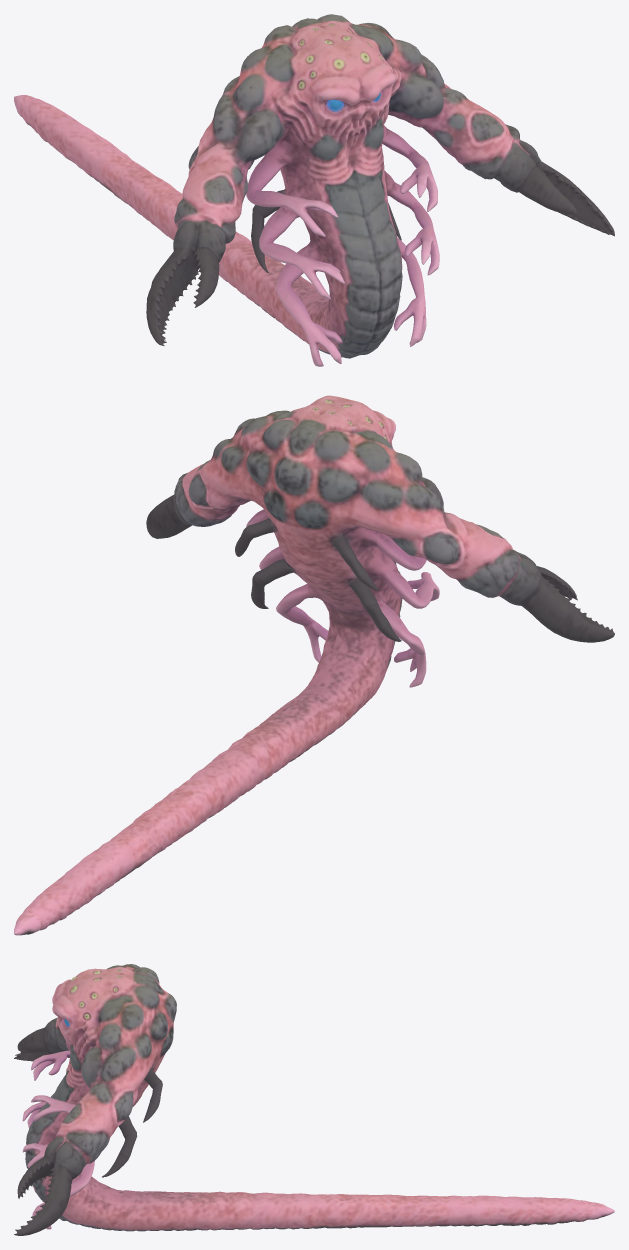
File: MZ4250 - Tsucora Quori.glb
3 renders of one model, top to bottom at view 1: azimuth 30°, elevation 25°; view 2: azimuth 150°, elevation 25°; view 3: azimuth 270°, elevation 25°, orthographic. The views are drawn at different scales.
Parts seen in each view (by area): view 1: ORGANIC BASE SPHERE.002; view 2: ORGANIC BASE SPHERE.002; view 3: ORGANIC BASE SPHERE.002.
Part boxes in pixels (x1,y1,x2,y2): ORGANIC BASE SPHERE.002: (14, 14, 614, 366); ORGANIC BASE SPHERE.002: (14, 395, 614, 935); ORGANIC BASE SPHERE.002: (14, 964, 614, 1235).
Size of the model in its own units: 4.35 by 2.89 by 6.17.
Materials: 1 (1 with a texture image).
